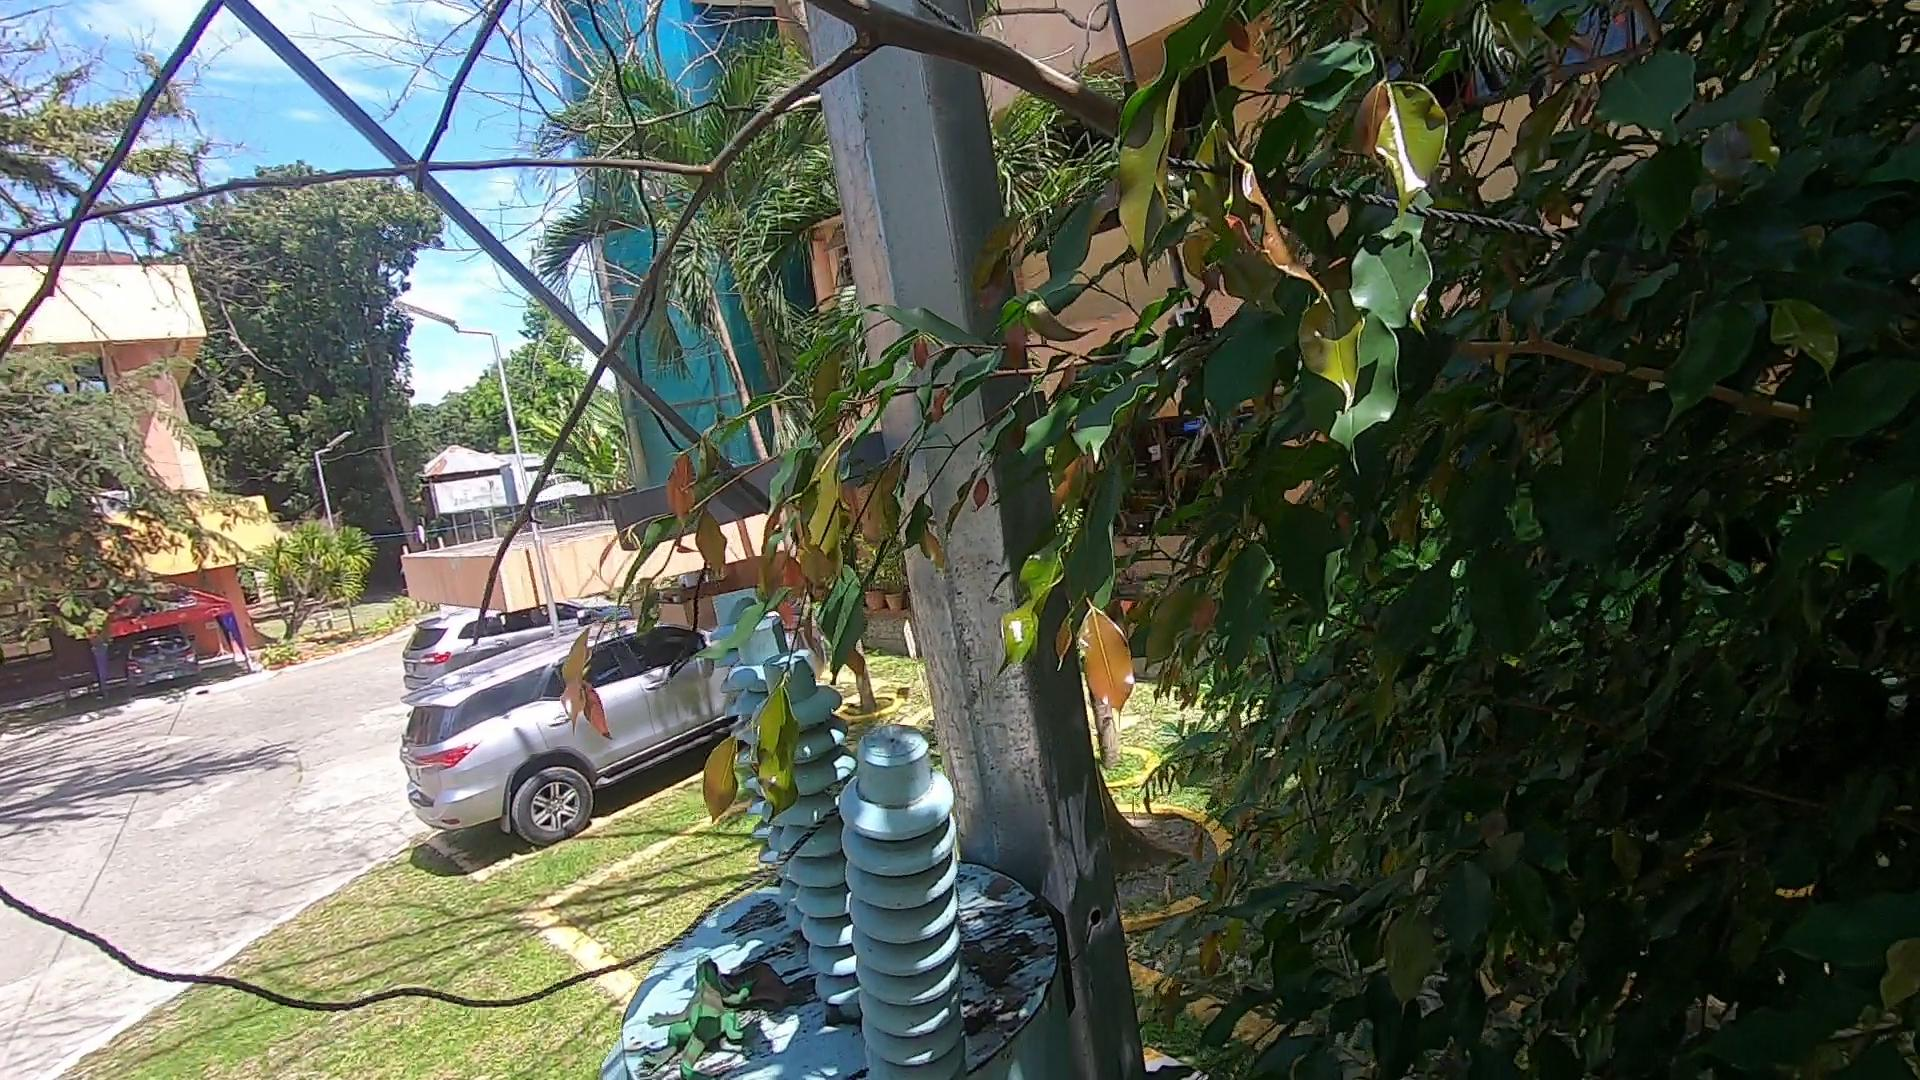leaf: (711, 967, 825, 1015)
tree branch: (1, 13, 1313, 666)
